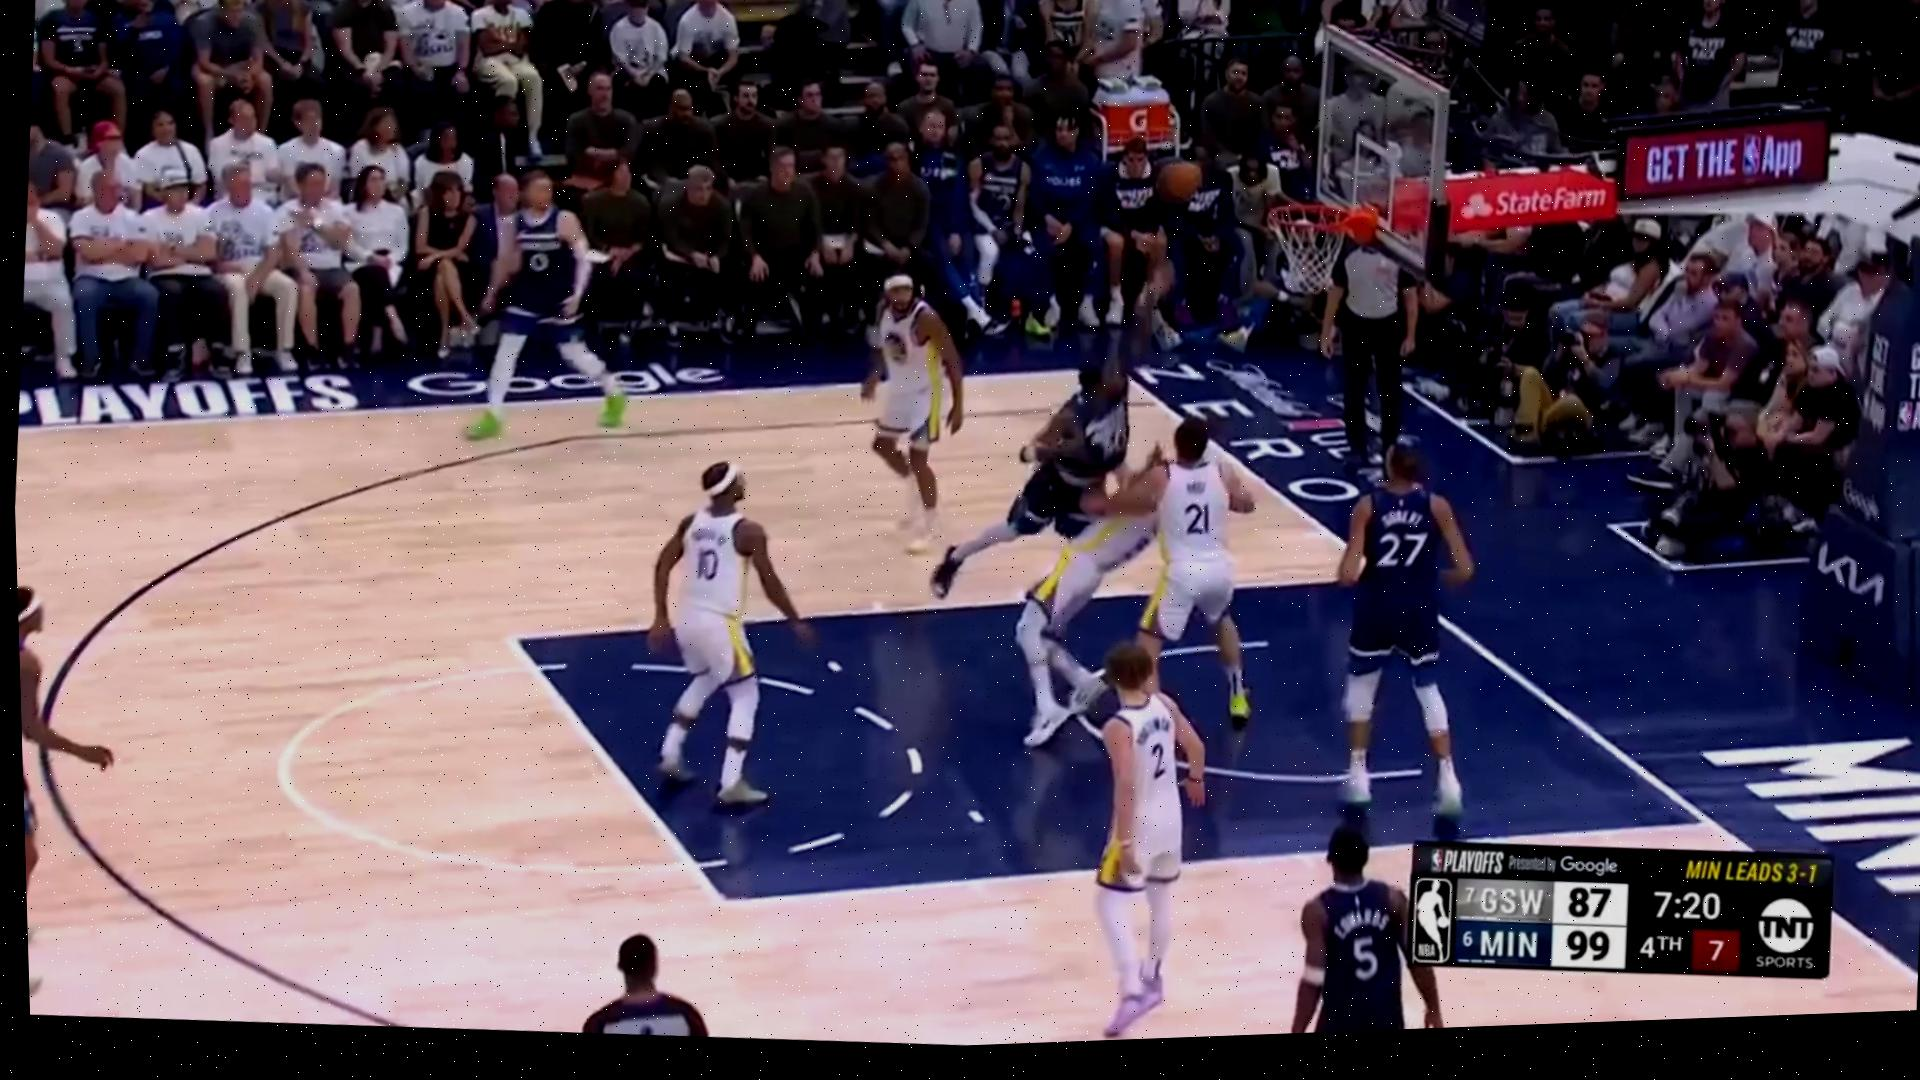foul: (960, 310, 1213, 728)
